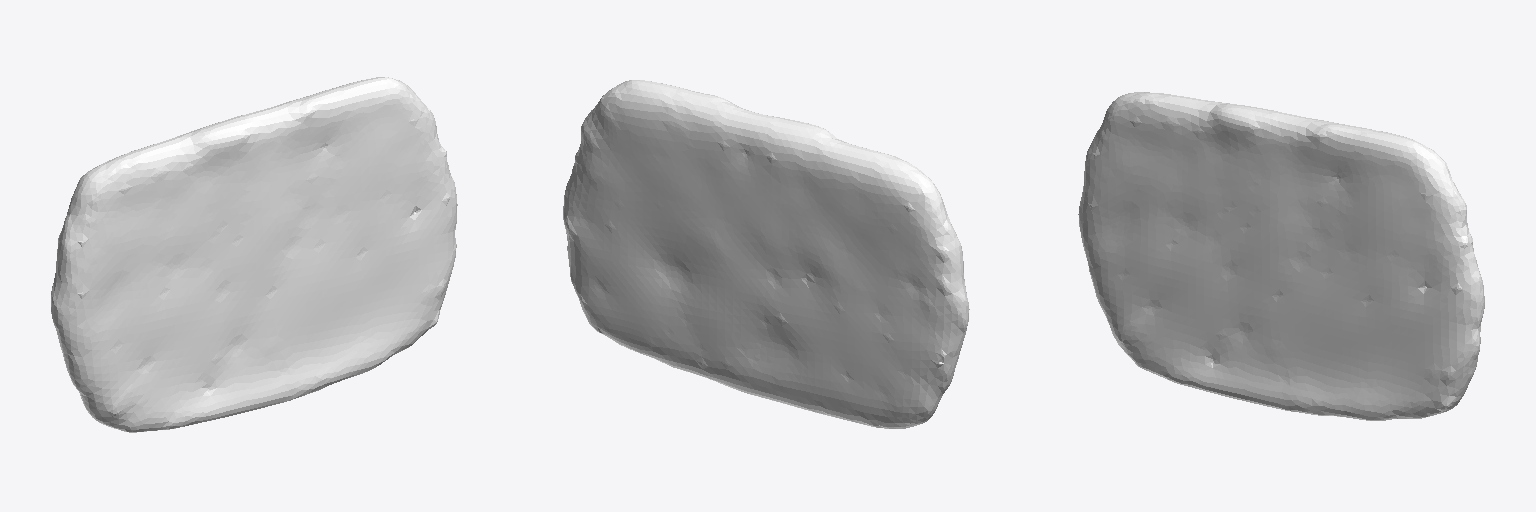
Rendered from chaji2.obj.
3 renders of one model, left to right at view 1: azimuth 30°, elevation 25°; view 2: azimuth 150°, elevation 25°; view 3: azimuth 330°, elevation 25°, orthographic.
Size of the model in its own units: 0.7728 by 0.536 by 0.0953.